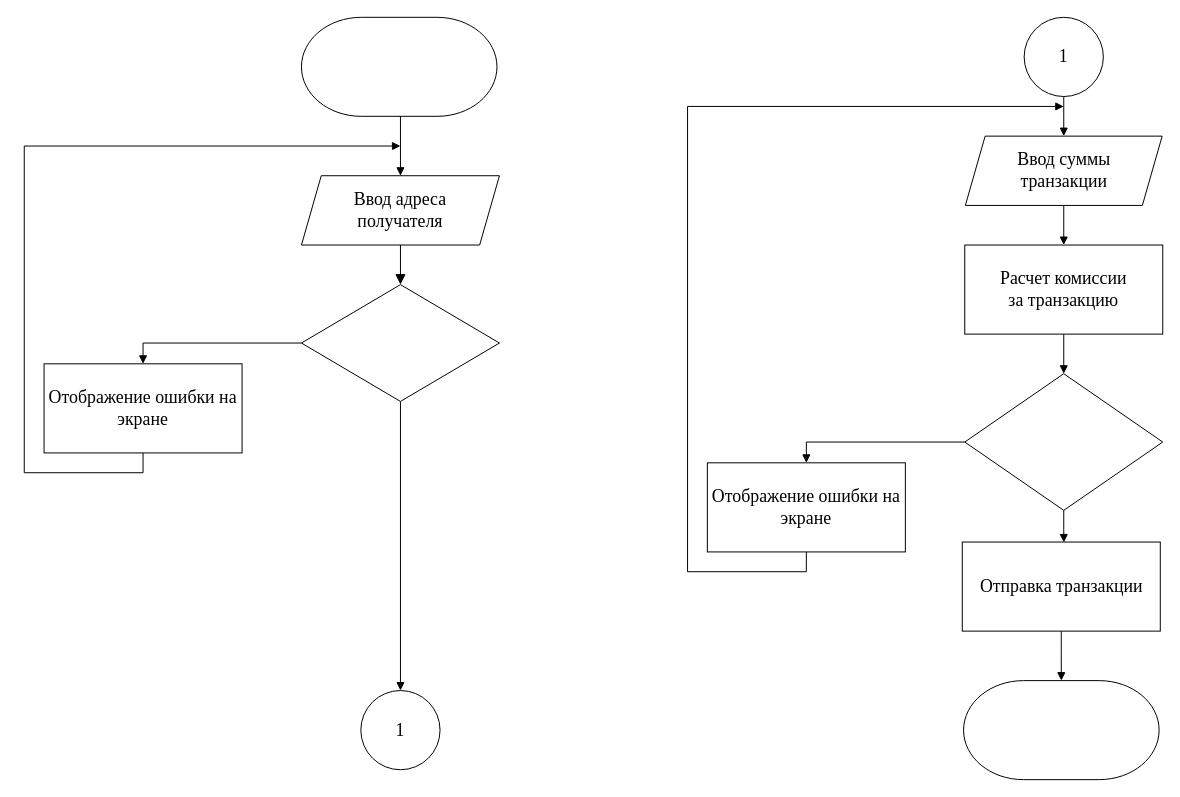
The diagram is 1180 pixels wide and 797 high, and some of its shapes have lost their labels. Here are the shapes that lost their labels. From the top down, the box of each, then its label:
(300, 16, 497, 116): Начало
(300, 284, 499, 401): Адрес валиден?
(964, 373, 1163, 510): Сумма + комиссия > баланса?
(963, 680, 1159, 780): Конец
